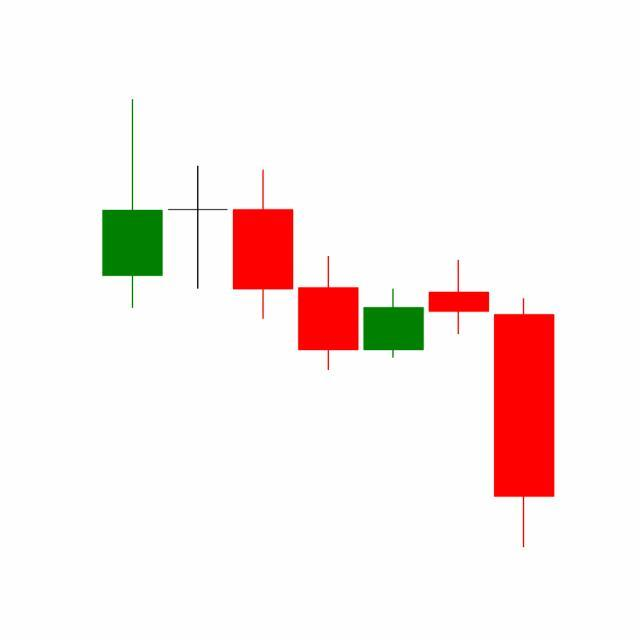Hikkake Pattern: (229, 166, 555, 549)
